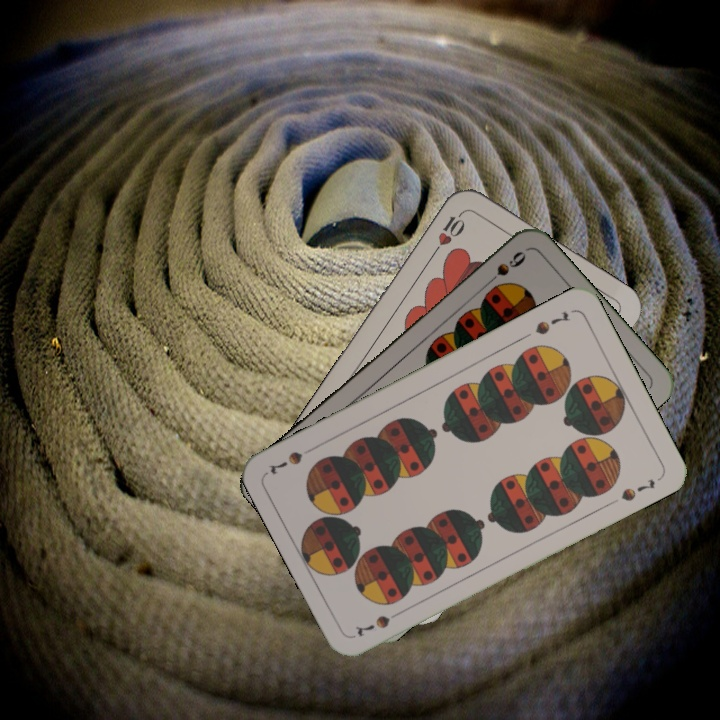H10: (429, 205, 469, 257)
S7: (351, 606, 406, 640), (530, 307, 572, 338)
S9: (479, 246, 529, 291)
